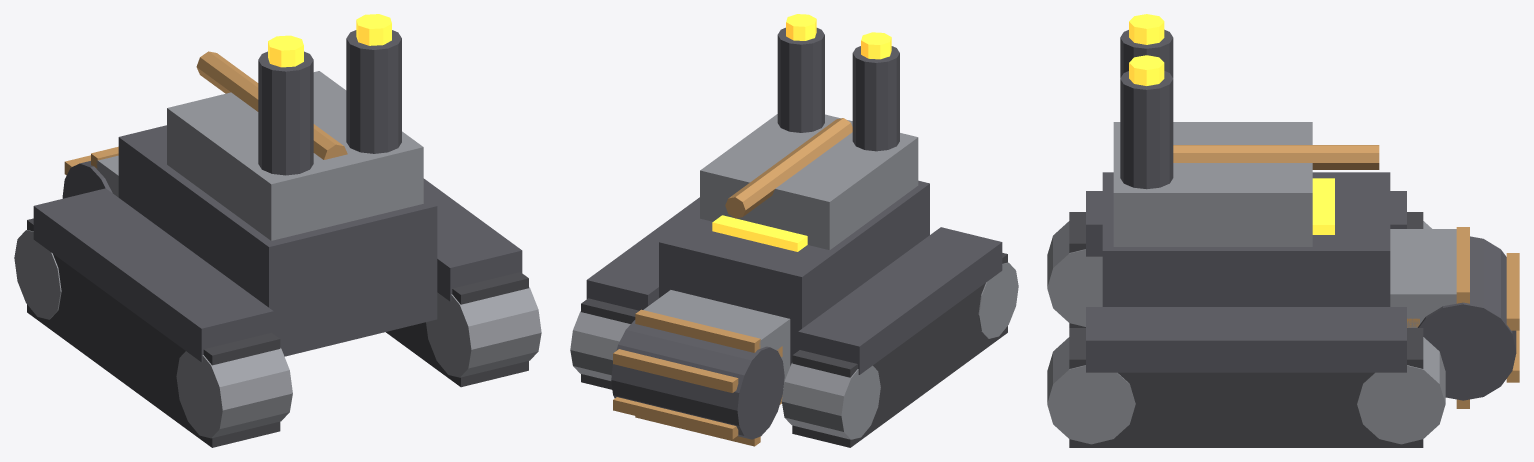
The model's file is titanforge_harvester.glb.
The picture shows the model from 3 angles, left to right: view 1: azimuth 30°, elevation 25°; view 2: azimuth 150°, elevation 25°; view 3: azimuth 270°, elevation 25°; orthographic projection. The views are drawn at different scales.
Parts seen in each view (by area): view 1: Cube.004, Cube.005, Cube.001, Cube, Cylinder, Cylinder.002, Cylinder.006, Cylinder.004, Cube.003, Cube.002, Cylinder.001, Cylinder.009 (+4 smaller); view 2: Cube.004, Cube.005, Cube.001, Cylinder.008, Cube, Cylinder.001, Cylinder.006, Cylinder.004, Cube.003, Cube.006, Cylinder.009, Cylinder.003 (+8 smaller); view 3: Cube.004, Cube.003, Cube.002, Cube.005, Cylinder.008, Cylinder.002, Cylinder.003, Cylinder.006, Cube.006, Cylinder.009, Cylinder, Cube.001 (+7 smaller).
Boxes of the visible parts, x1,y1,x2,y2 form: Cube.004: [118, 125, 437, 356]; Cube.005: [167, 71, 423, 240]; Cube.001: [33, 188, 273, 362]; Cube: [27, 218, 280, 447]; Cylinder: [176, 348, 292, 438]; Cylinder.002: [426, 287, 541, 377]; Cylinder.006: [346, 30, 401, 153]; Cylinder.004: [258, 51, 313, 175]; Cube.003: [423, 178, 522, 301]; Cube.002: [386, 272, 528, 387]; Cylinder.001: [14, 230, 61, 319]; Cylinder.009: [196, 51, 347, 159]; Cube.004: [659, 180, 929, 365]; Cube.005: [700, 114, 918, 250]; Cube.001: [798, 227, 1002, 374]; Cylinder.008: [611, 320, 784, 439]; Cube: [792, 253, 1007, 447]; Cylinder.001: [781, 363, 880, 439]; Cylinder.006: [777, 27, 824, 132]; Cylinder.004: [852, 46, 899, 151]; Cube.003: [586, 197, 699, 310]; Cube.006: [643, 290, 790, 385]; Cylinder.009: [725, 118, 852, 218]; Cylinder.003: [570, 311, 630, 380]; Cube.004: [1102, 172, 1390, 306]; Cube.003: [1086, 307, 1406, 372]; Cube.002: [1069, 328, 1423, 447]; Cube.005: [1113, 122, 1312, 246]; Cylinder.008: [1417, 236, 1516, 400]; Cylinder.002: [1047, 337, 1135, 444]; Cylinder.003: [1357, 337, 1445, 444]; Cylinder.006: [1120, 71, 1173, 189]; Cube.006: [1390, 229, 1456, 327]; Cylinder.009: [1173, 145, 1379, 169]; Cylinder: [1047, 221, 1102, 326]; Cube.001: [1086, 191, 1406, 256].
Size of the model in its own units: 1.6 by 1.67 by 2.14.
